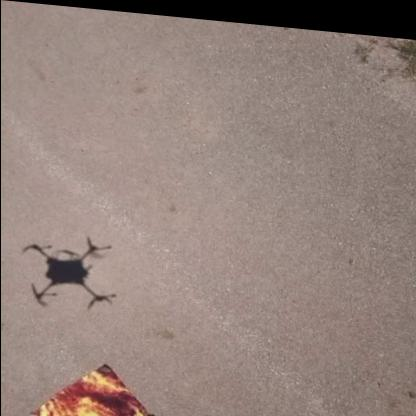fire-poster: (25, 356, 163, 416)
